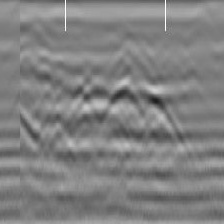Utility: (77, 73, 175, 131)
